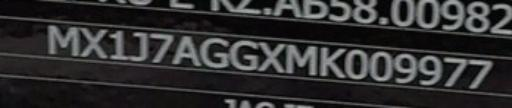letter: (282, 42, 320, 78), (226, 37, 260, 71), (46, 23, 80, 55), (78, 24, 110, 58), (170, 33, 202, 67), (198, 34, 230, 68), (256, 40, 286, 74), (318, 45, 348, 79), (414, 54, 444, 88), (466, 56, 496, 89), (442, 53, 468, 88), (342, 48, 370, 80), (368, 48, 394, 82), (392, 51, 418, 85), (148, 30, 174, 62), (108, 27, 130, 59), (128, 29, 150, 61)
